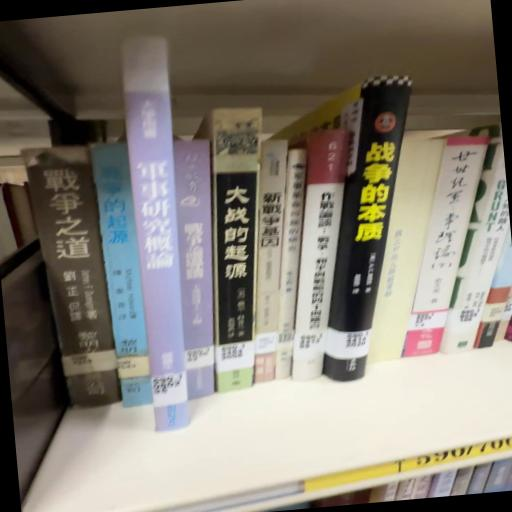backward: (369, 136, 445, 368)
book: (297, 76, 437, 384), (272, 128, 377, 385), (167, 131, 241, 421), (198, 147, 283, 399), (235, 137, 313, 388)
